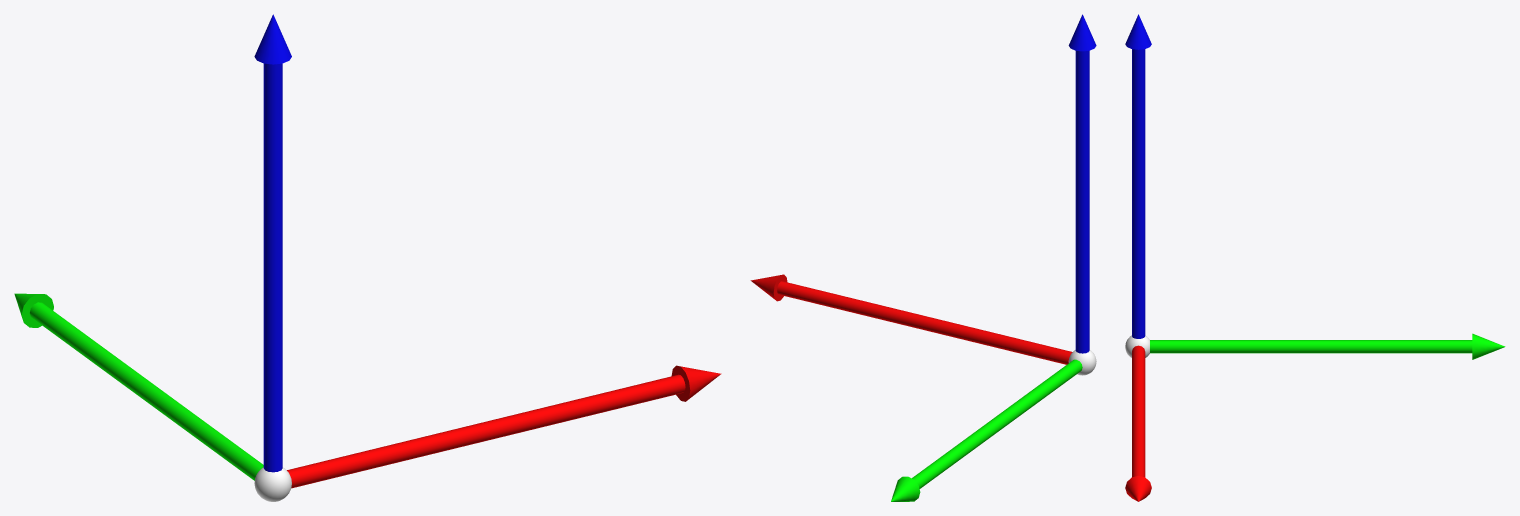
The model's file is axes.FBX.
3 renders of one model, left to right at view 1: azimuth 30°, elevation 25°; view 2: azimuth 150°, elevation 25°; view 3: azimuth 270°, elevation 25°, orthographic. The views are drawn at different scales.
Parts seen in each view (by area): view 1: Cylinder001, Cylinder002, Cylinder003, Sphere001; view 2: Cylinder001, Cylinder002, Cylinder003, Sphere001; view 3: Cylinder003, Cylinder001, Cylinder002.
Part boxes in pixels (left/top/right/bottom): Cylinder001: left=254, top=14, right=291, bottom=472; Cylinder002: left=287, top=365, right=721, bottom=488; Cylinder003: left=14, top=293, right=263, bottom=480; Sphere001: left=254, top=467, right=291, bottom=501; Cylinder001: left=1068, top=14, right=1096, bottom=353; Cylinder002: left=750, top=274, right=1072, bottom=364; Cylinder003: left=891, top=359, right=1082, bottom=501; Sphere001: left=1068, top=350, right=1096, bottom=375; Cylinder003: left=1150, top=333, right=1505, bottom=359; Cylinder001: left=1125, top=14, right=1151, bottom=338; Cylinder002: left=1125, top=345, right=1151, bottom=501.
Size of the model in its own units: 22.44 by 22.44 by 22.44.
